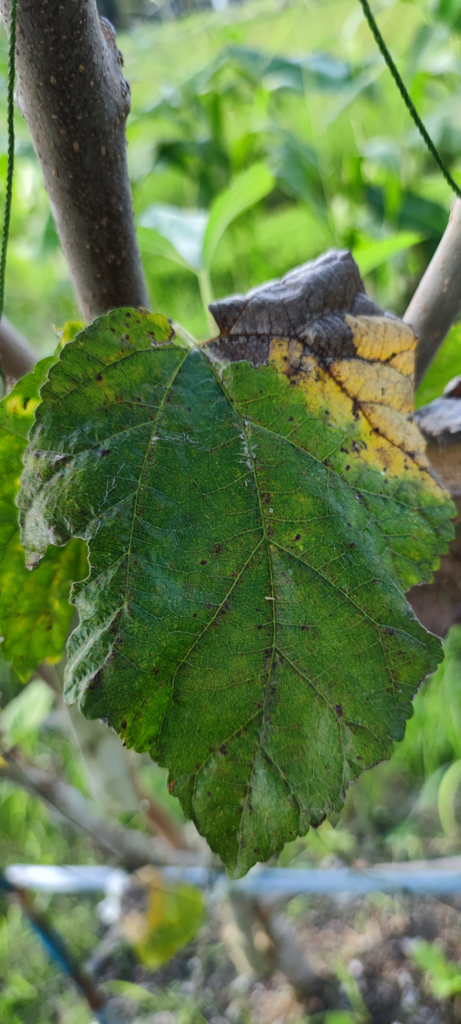Pepper yellow leaf: (208, 245, 460, 504)
